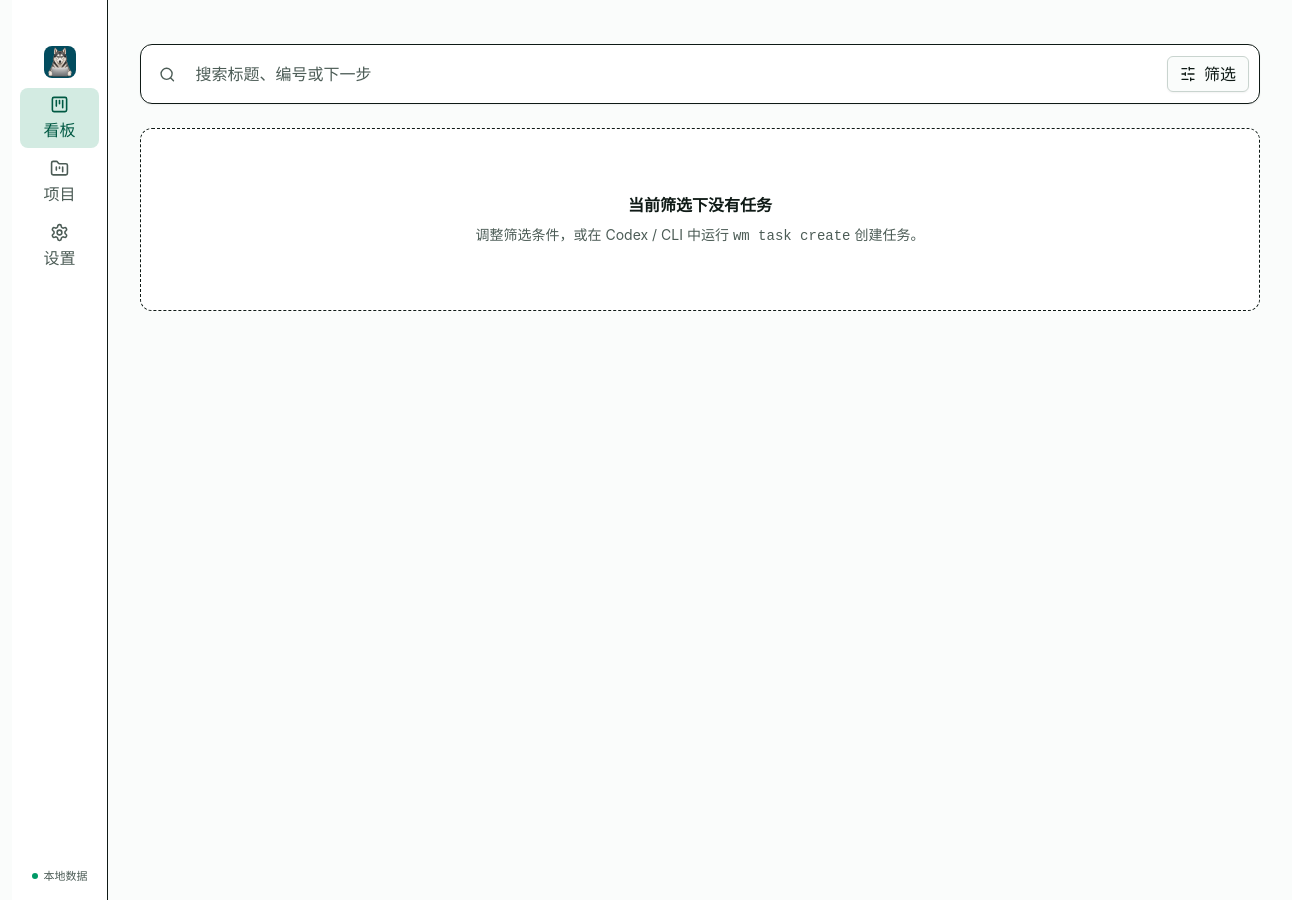
it: 应用级项目初始化与重设 › 项目页同步配置后可打开数据库中的项目详情
Click the button "项目".
click(60, 182)  # box 20,152 -> 99,212
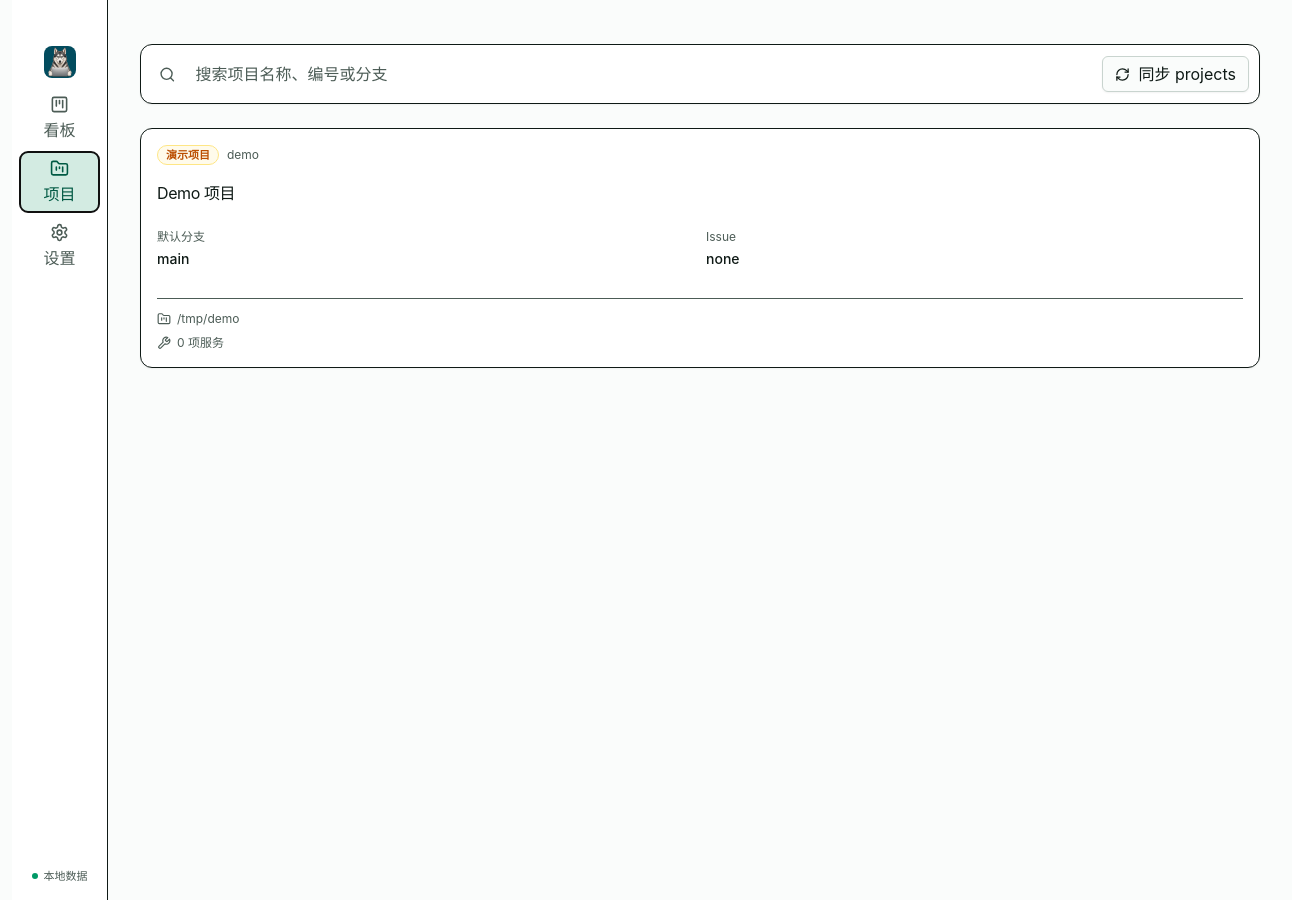
Expected: the button "Demo 项目" is shown, 157,181 -> 1243,205
Click the button "同步 projects".
click(1176, 74)  # box 1102,56 -> 1249,92
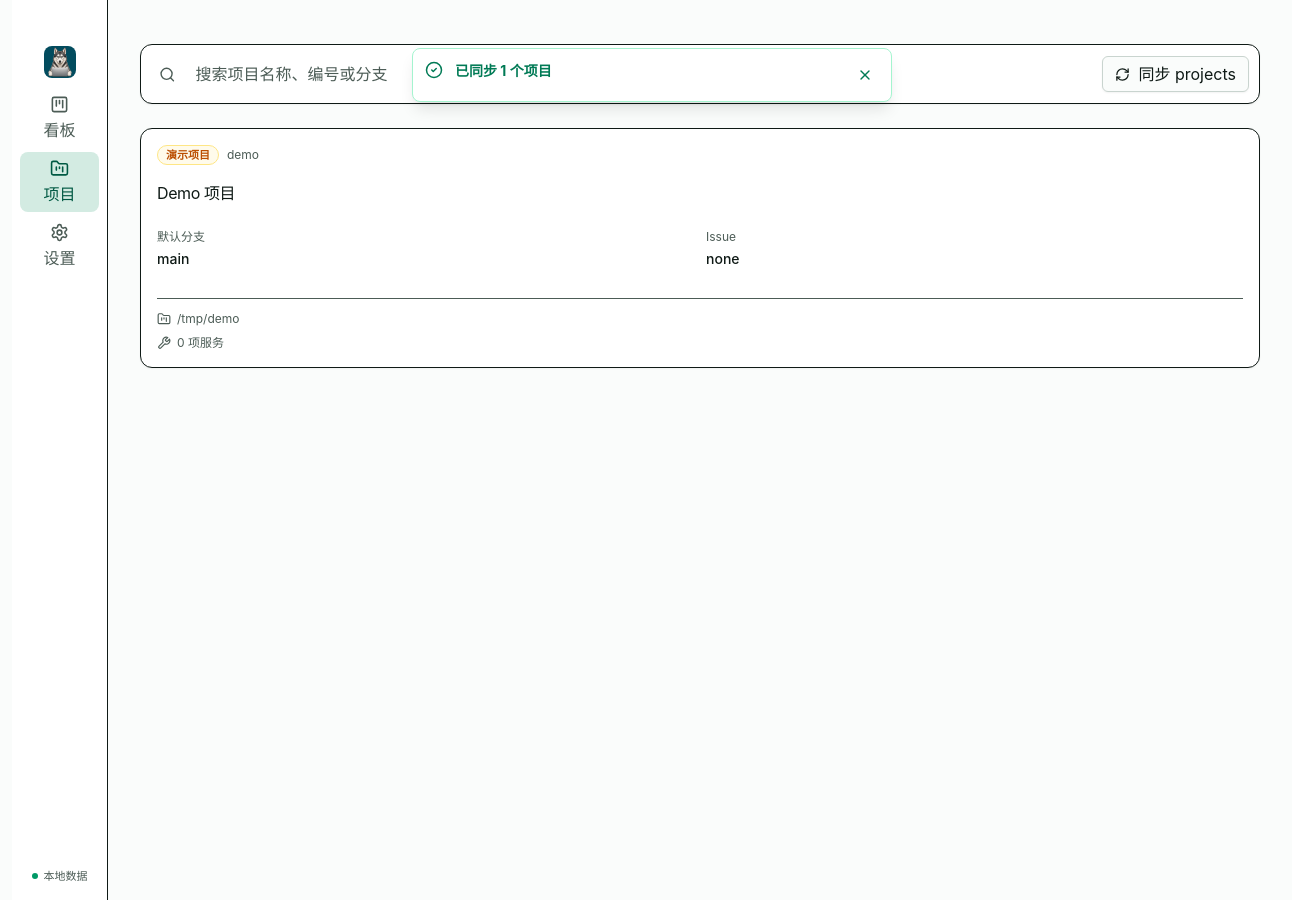
Expected: the text "已同步 1 个项目" is shown, 455,62 -> 552,79
Click the button "Demo 项目".
click(196, 193)  # box 157,181 -> 1243,205
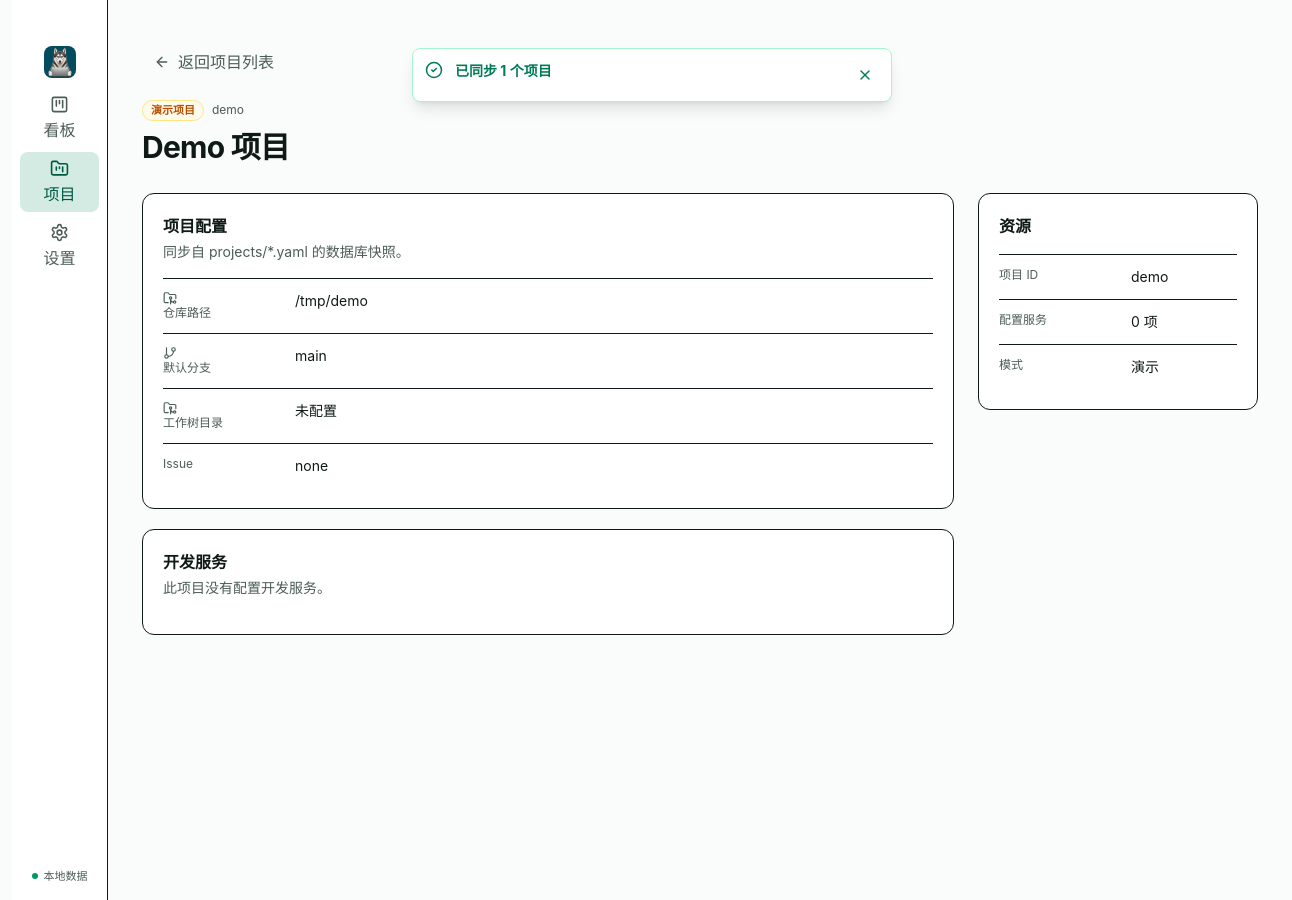
Expected: the heading "项目配置" is shown, 163,216 -> 227,236
